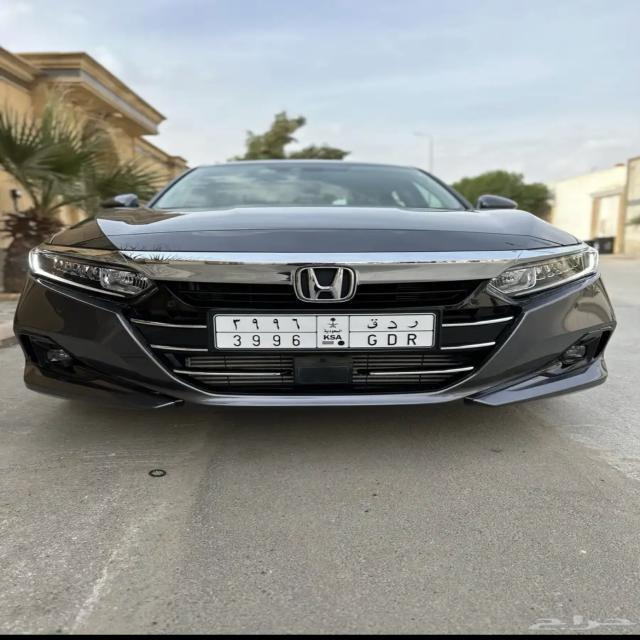license_plate: (213, 314, 437, 354)
